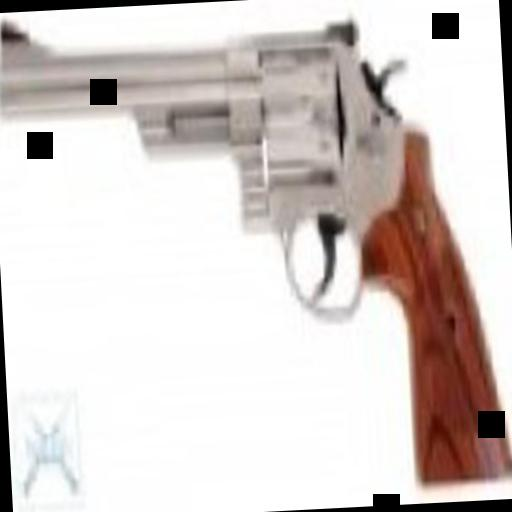Handgun: (0, 0, 507, 502)
